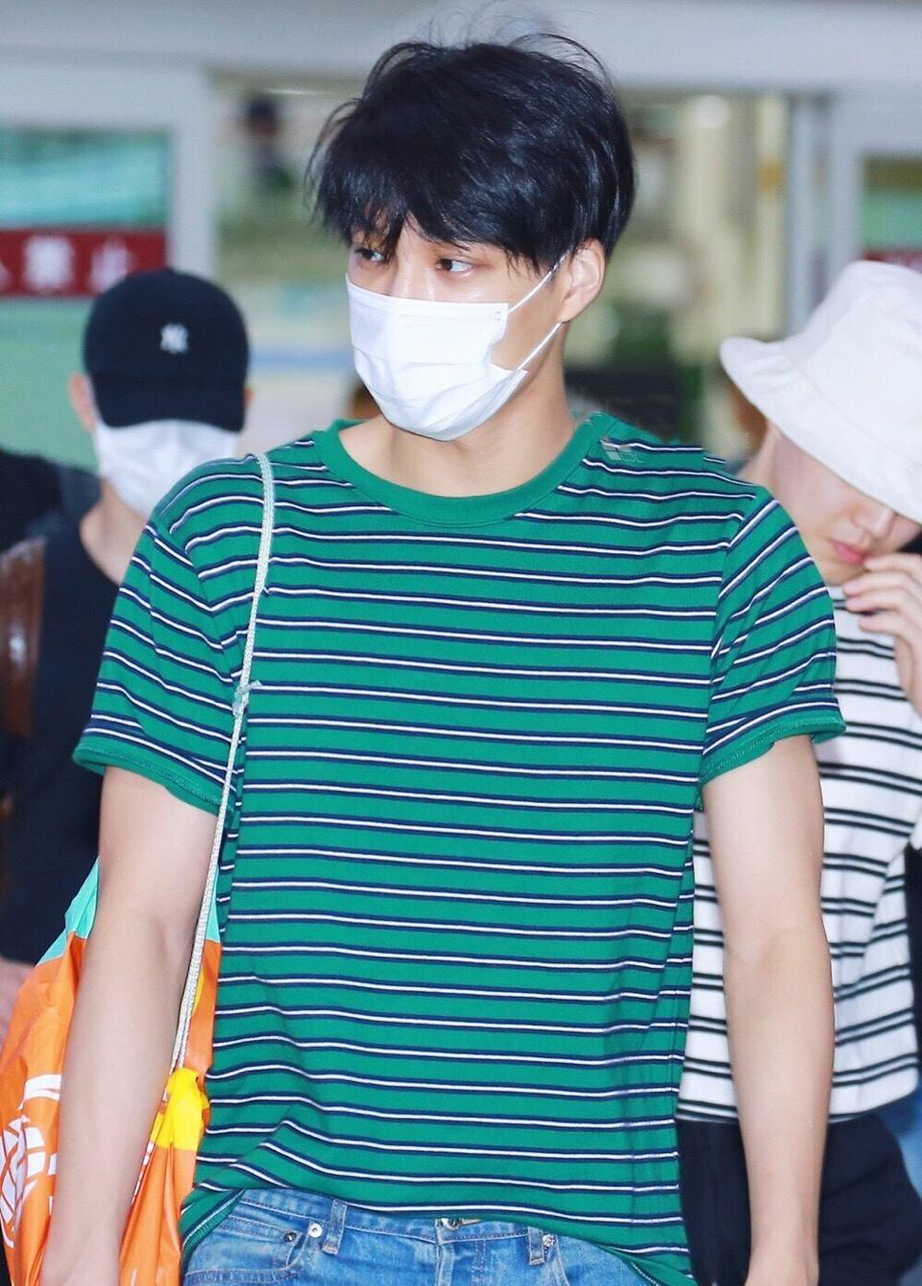NONE: (778, 413, 922, 586)
OK: (334, 223, 558, 447), (94, 378, 239, 526)
